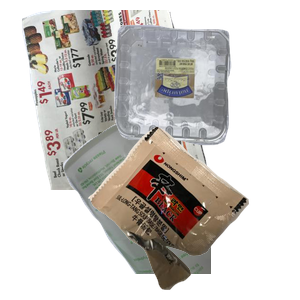glass: (60, 120, 300, 300)
paper: (19, 10, 223, 190)
plastic: (112, 22, 300, 160)
trash: (86, 124, 300, 300)
